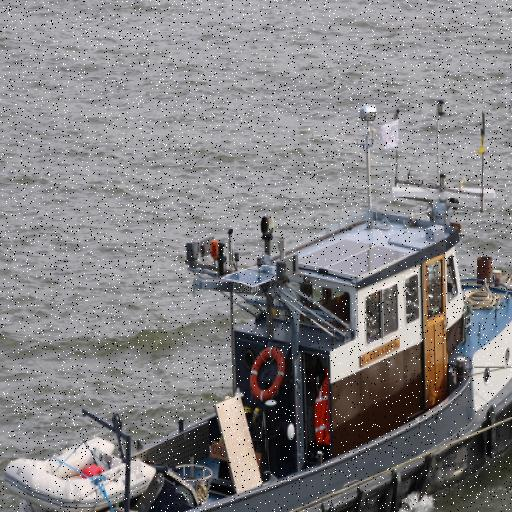tugboat: (1, 176, 512, 512)
